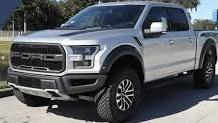Trucks: (9, 3, 218, 122)
